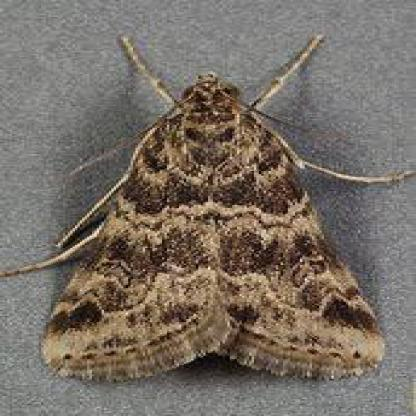Hellula undalis: (2, 27, 414, 388)
